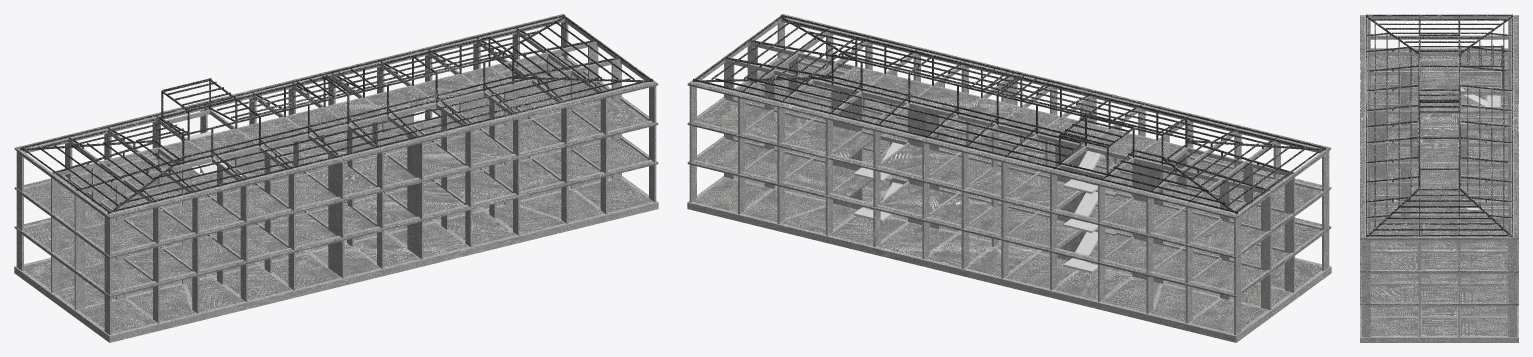
Rendered from forestada.dae.
3 renders of one model, left to right at view 1: azimuth 30°, elevation 25°; view 2: azimuth 150°, elevation 25°; view 3: azimuth 270°, elevation 25°, orthographic. The views are drawn at different scales.
Parts seen in each view (by area): view 1: Losas_2 (×16), Losas_1 (×15), Platea (×14), Vig_3, Losas_3 (×9), group_2 (×6), group_3 (×6), Vigas_fund_1 (×4), Vig_2 (×2), Vigas_met (×2), Vig_1 (×2), Muros_3 (×2) (+2 smaller); view 2: Losas_2 (×15), Platea (×14), Losas_1 (×13), Vig_3, Losas_3 (×9), group_2 (×6), group_3 (×6), Vigas_fund_1 (×3), Vig_2 (×3), Muros_3 (×3), Vigas_met (×2), Vig_1 (×2) (+3 smaller); view 3: Losas_2 (×29), Vig_3, Losas_3 (×9), Losas_1 (×9), Platea (×6), Muros_3 (×10), Vig_2 (×7), group_2 (×6), group_5 (×7), group_4 (×7), Vigas_fund_1 (×4), group_3 (×5) (+5 smaller).
Boxes of the visible parts, x1,y1,x2,y2 form: Losas_2 (×16): (14,54,658,258); Losas_1 (×15): (14,136,658,297); Platea (×14): (24,178,652,333); Vig_3: (16,17,656,220); Losas_3 (×9): (14,14,658,218); group_2 (×6): (108,75,652,213); group_3 (×6): (20,14,564,149); Vigas_fund_1 (×4): (73,177,658,342); Vig_2 (×2): (54,81,620,247); Vigas_met (×2): (159,36,513,135); Vig_1 (×2): (54,137,620,286); Muros_3 (×2): (328,134,423,199); Losas_2 (×15): (687,54,1331,258); Platea (×14): (693,178,1321,333); Losas_1 (×13): (687,136,1331,297); Vig_3: (689,17,1329,220); Losas_3 (×9): (687,14,1331,218); group_2 (×6): (781,14,1325,149); group_3 (×6): (693,75,1237,213); Vigas_fund_1 (×3): (687,176,1273,342); Vig_2 (×3): (725,81,1291,247); Muros_3 (×3): (831,88,1163,206); Vigas_met (×2): (832,36,1186,135); Vig_1 (×2): (725,137,1291,286); Losas_2 (×29): (1360,48,1518,272); Vig_3: (1361,15,1517,241); Losas_3 (×9): (1360,15,1518,239); Losas_1 (×9): (1360,119,1518,305); Platea (×6): (1370,306,1508,335); Muros_3 (×10): (1361,75,1517,270); Vig_2 (×7): (1361,68,1517,273); group_2 (×6): (1366,14,1418,236); group_5 (×7): (1367,200,1511,236); group_4 (×7): (1367,14,1511,42); Vigas_fund_1 (×4): (1360,305,1518,342); group_3 (×5): (1467,14,1512,236).
Size of the model in its own units: 1722 by 518 by 471.
5 materials, 2 textured.
